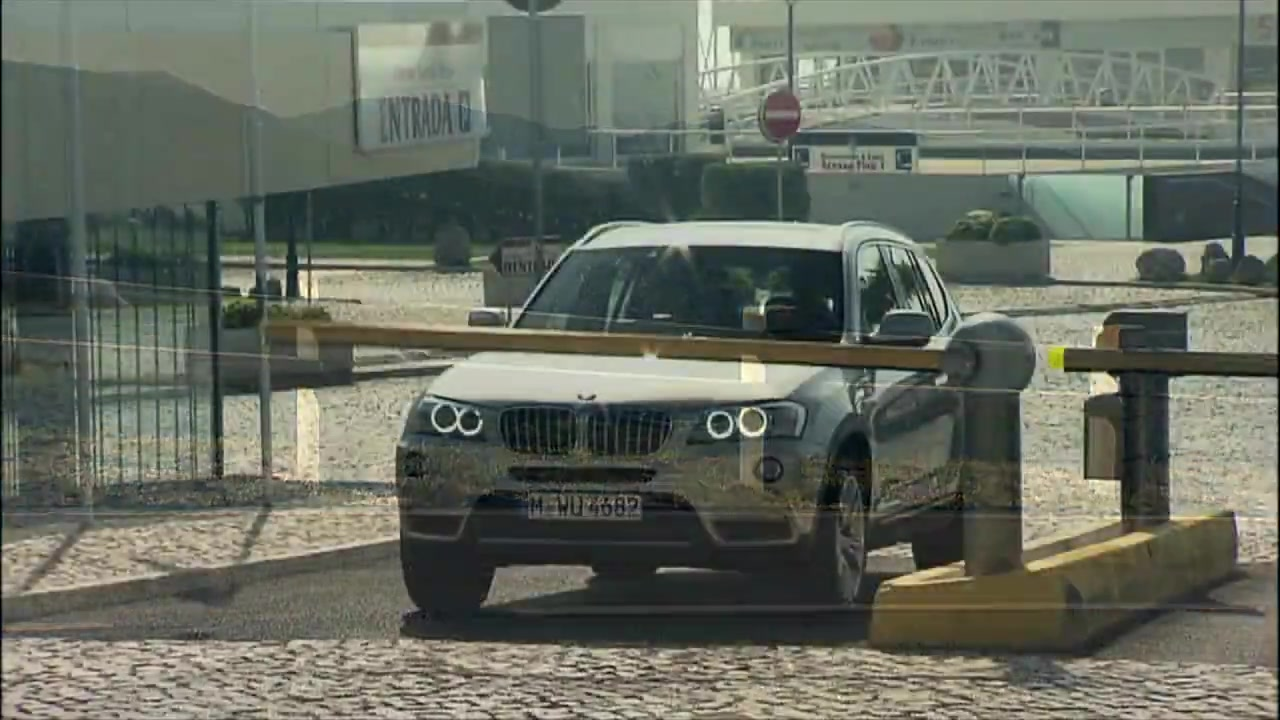car: (392, 220, 962, 623)
